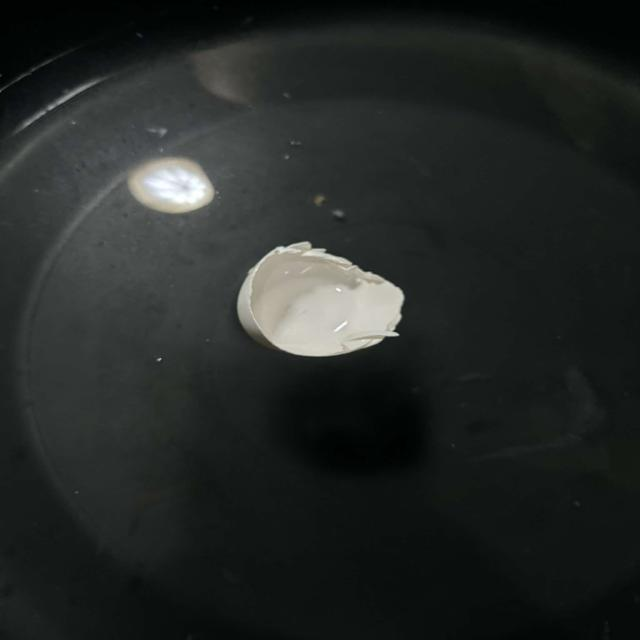Eggshell: (225, 223, 422, 383)
